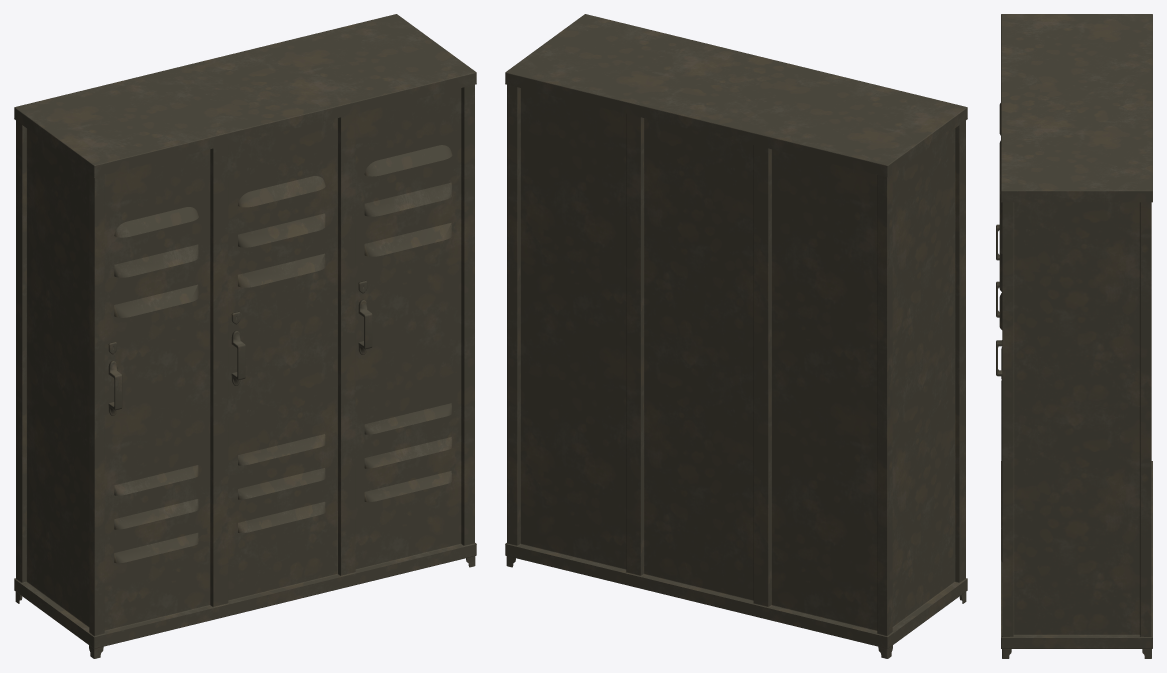
The model's file is locker.glb.
The picture shows the model from 3 angles, left to right: view 1: azimuth 30°, elevation 25°; view 2: azimuth 150°, elevation 25°; view 3: azimuth 270°, elevation 25°; orthographic projection. The views are drawn at different scales.
Parts seen in each view (by area): view 1: Cube; view 2: Cube; view 3: Cube.
Part boxes in pixels (bbox=[...]): Cube: bbox=[14, 14, 476, 658]; Cube: bbox=[505, 14, 967, 658]; Cube: bbox=[996, 14, 1152, 658].
Size of the model in its own units: 1.66 by 2.04 by 0.6203.
Materials: 1 (1 with a texture image).
